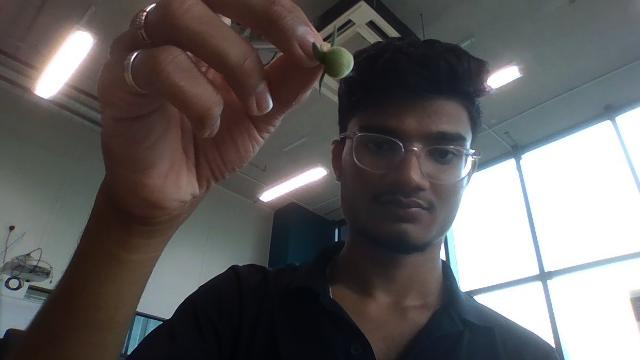Fruit Maturation: (318, 45, 353, 79)
